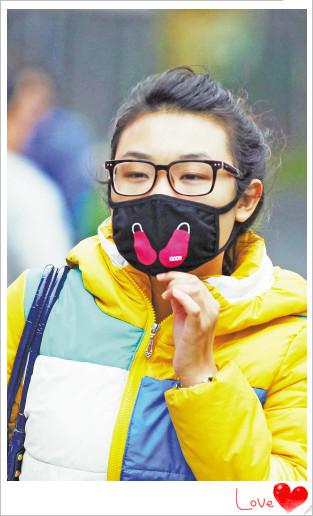WRONG: (112, 144, 227, 259)
